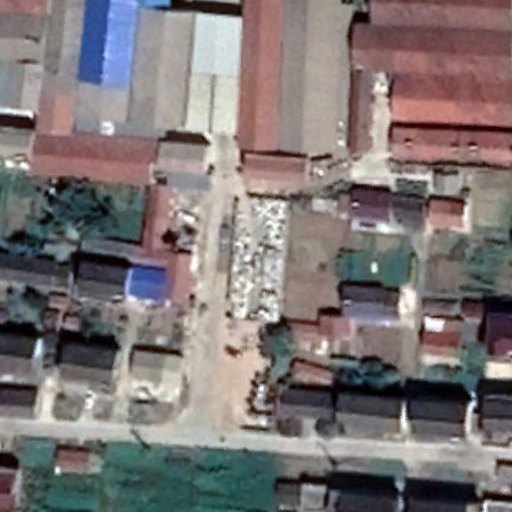msw: (227, 198, 291, 321)
